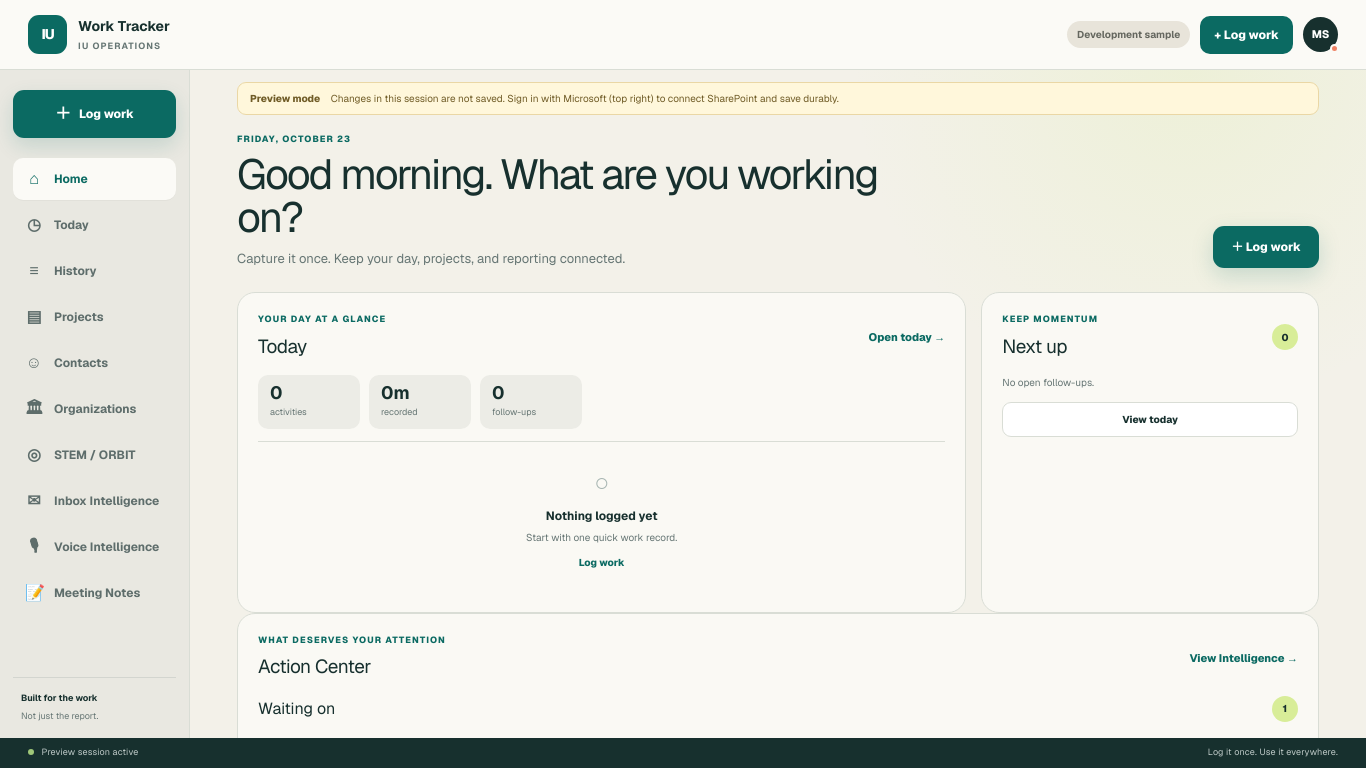
Test case: Dashboard Action Center — navigation › View Intelligence reaches the same Inbox Intelligence screen
Expected: the heading "Action Center" is shown, [258,654,371,679]
Click the button "View Intelligence →" at (1244, 658), box [1189,650,1298,666]
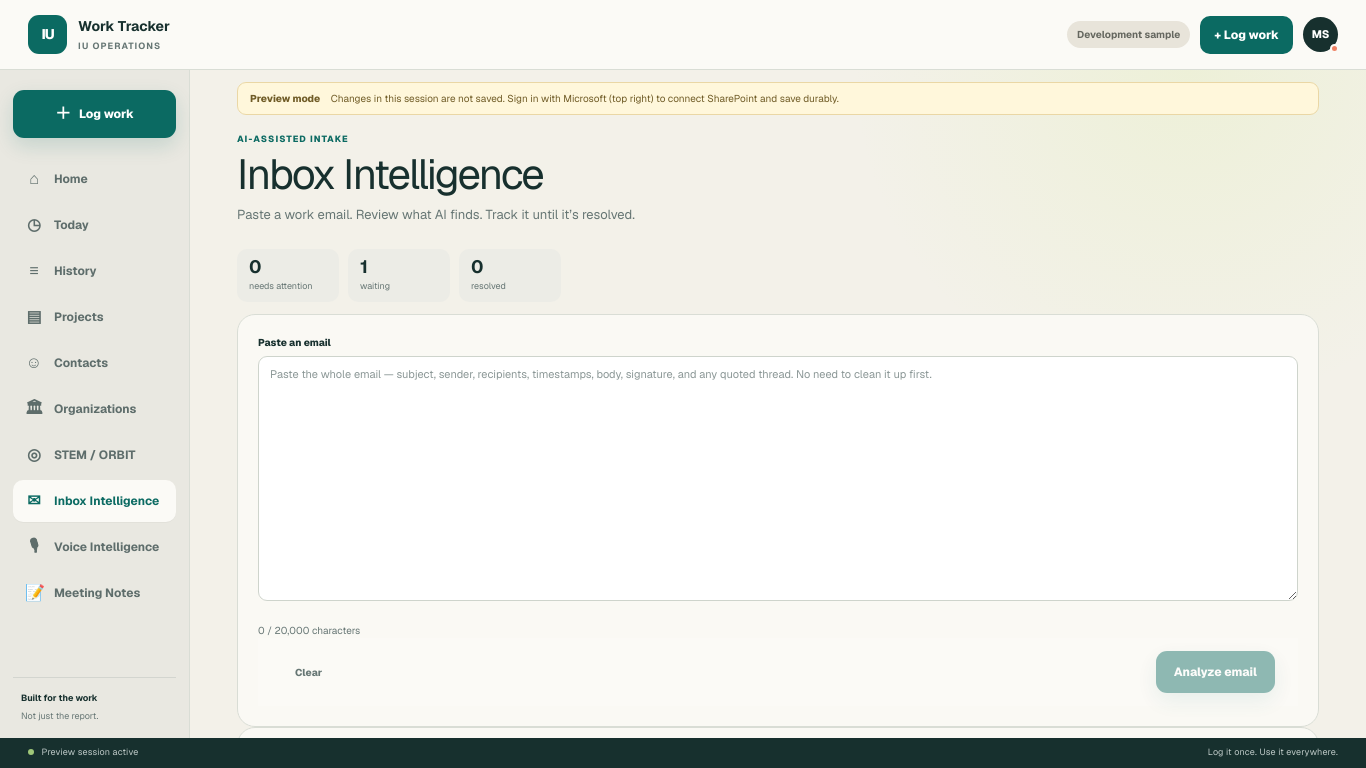
Expected: the text "AI-assisted intake" is shown, [237,133,349,145]
